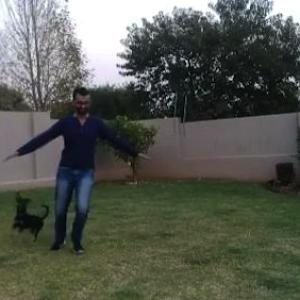land: (10, 89, 160, 256)
